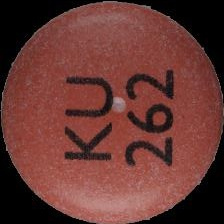50268-599: (0, 0, 224, 224)
